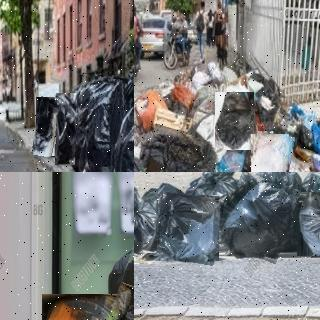Garbage: (223, 175, 296, 261), (68, 75, 123, 172), (152, 193, 222, 264), (187, 172, 246, 247), (134, 127, 218, 172), (215, 92, 254, 150), (42, 294, 124, 320), (104, 102, 134, 172), (247, 132, 292, 172), (134, 186, 157, 253), (56, 93, 77, 165), (34, 97, 59, 157), (297, 192, 320, 256)
